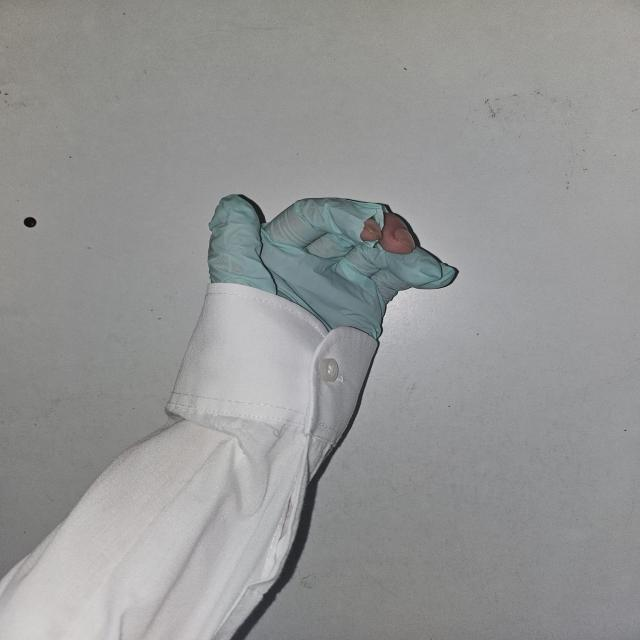gloves_damaged: (203, 194, 463, 344)
